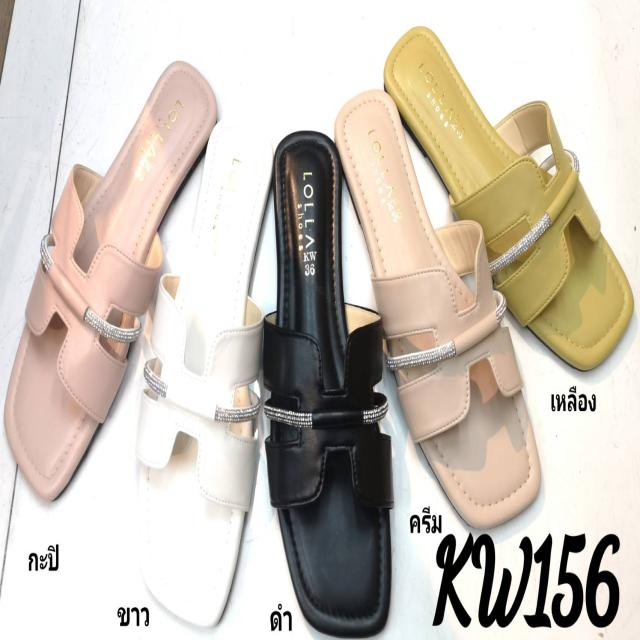black: (264, 130, 390, 626)
cream: (338, 88, 542, 532)
kapi: (5, 64, 219, 484)
white: (138, 112, 274, 612)
yellow: (385, 28, 636, 376)
